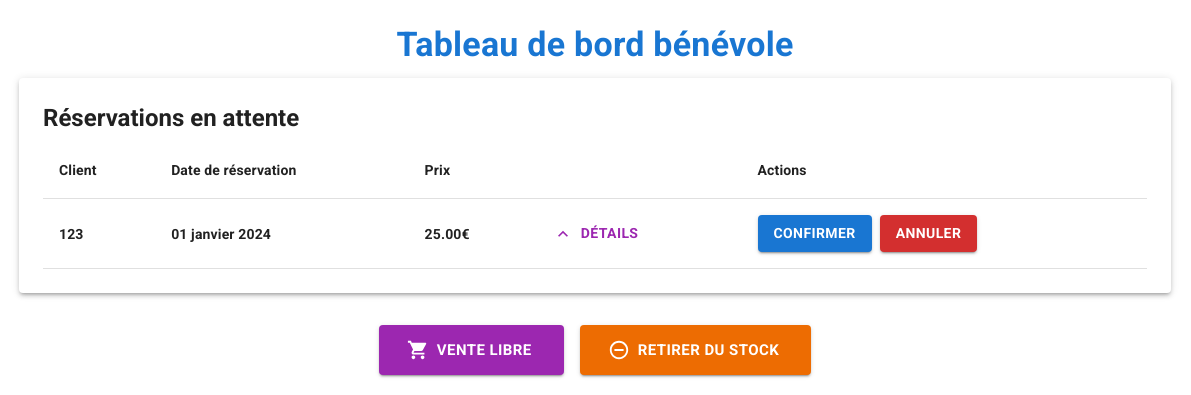
it: VolunteerHomePage › handles cancel reservation error
Click the button "Annuler". click: coordinates (928, 234)
box: [880,215,977,252]
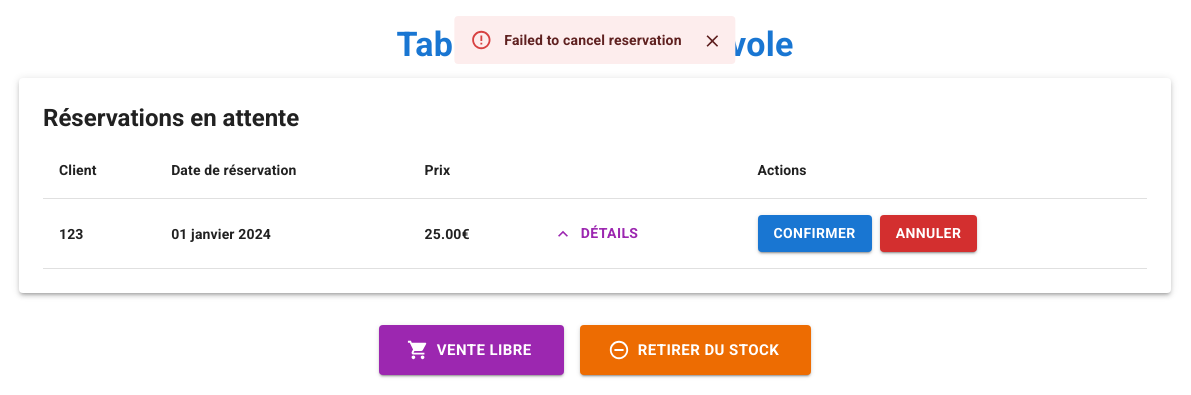
expect the text "Failed to cancel reservation" is shown: met, box [504,32,682,48]
